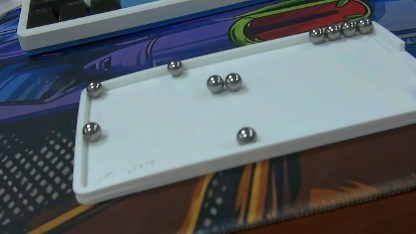ironball: (225, 68, 245, 97), (235, 123, 256, 147), (82, 76, 102, 101), (165, 56, 186, 78), (80, 120, 101, 142), (203, 71, 222, 92), (324, 17, 338, 43), (344, 17, 357, 41), (357, 13, 372, 33), (308, 26, 325, 42)
